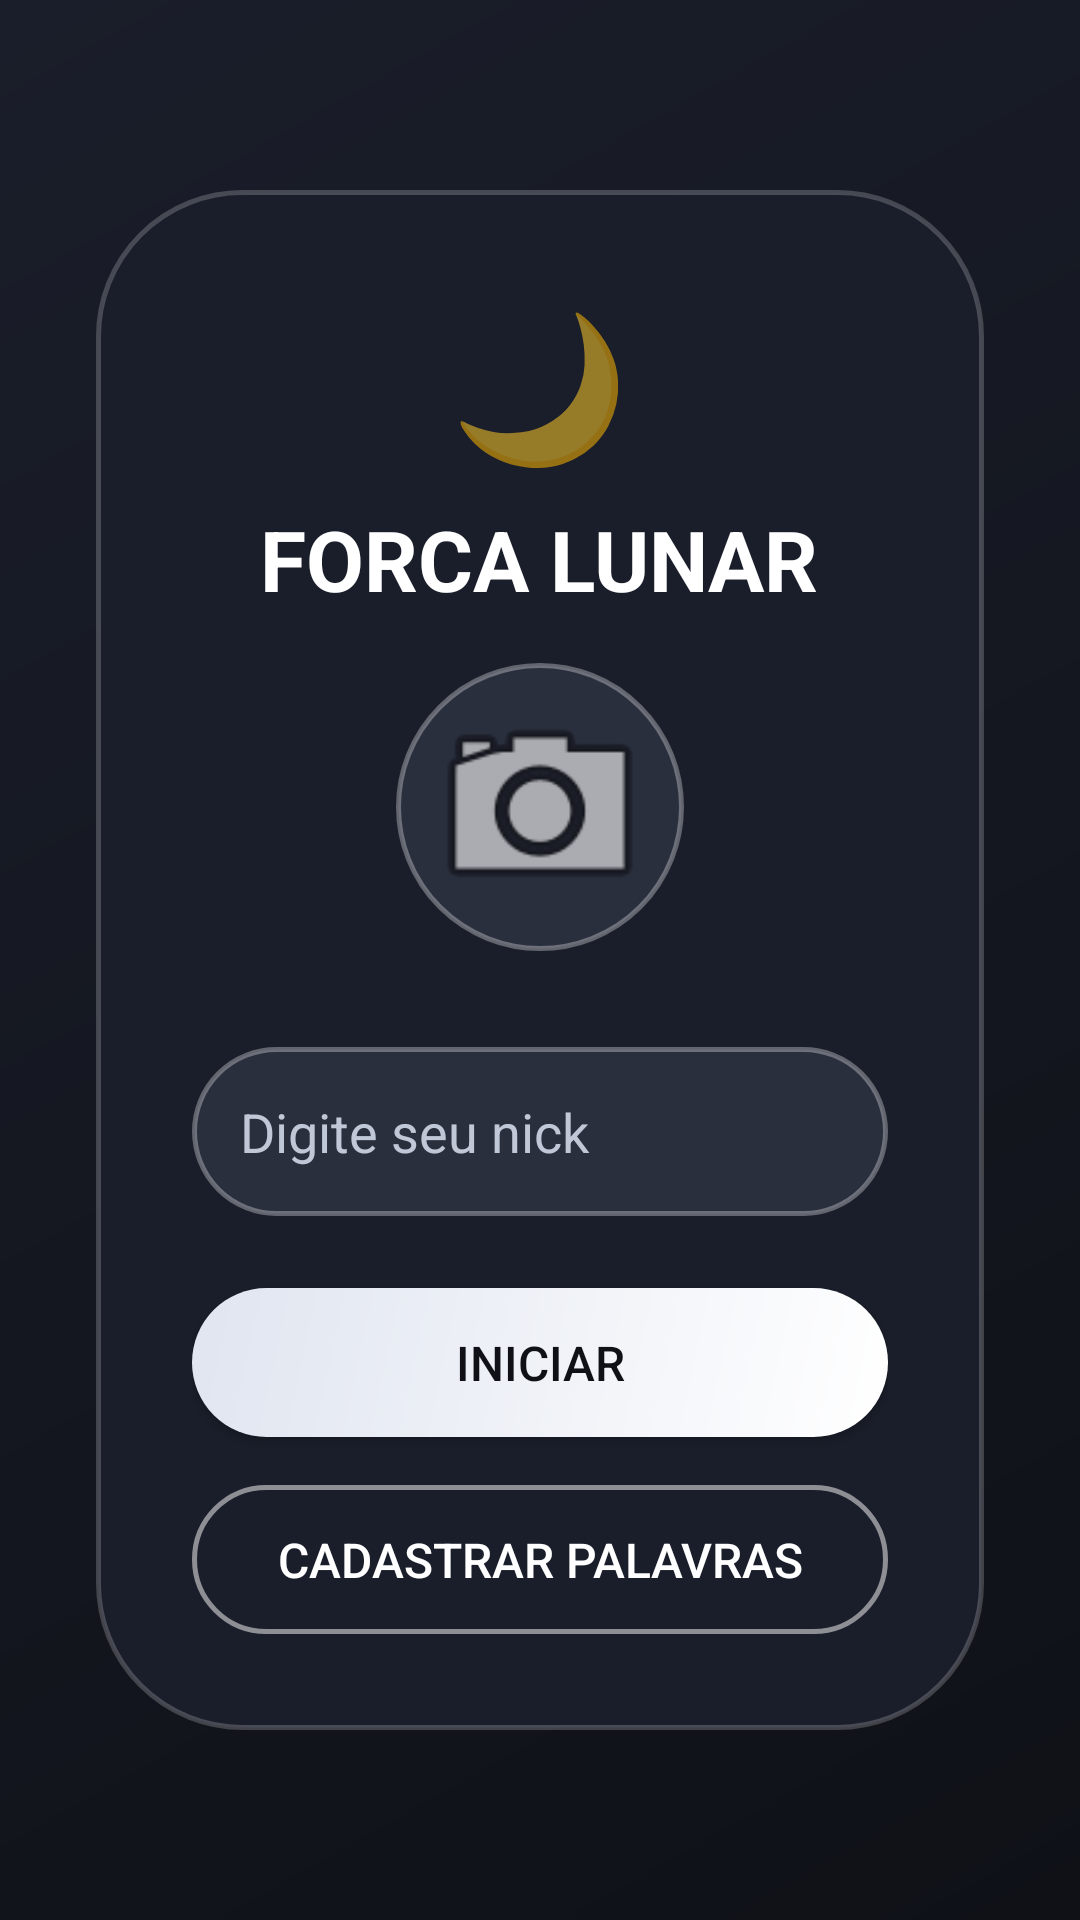

Named icons in this screenshot (1080px×1920px) and their bounding boxes, [left=x1, top=y1, right=x2, bottom=y2]:
Selecionar Avatar: [left=396, top=663, right=684, bottom=951]
